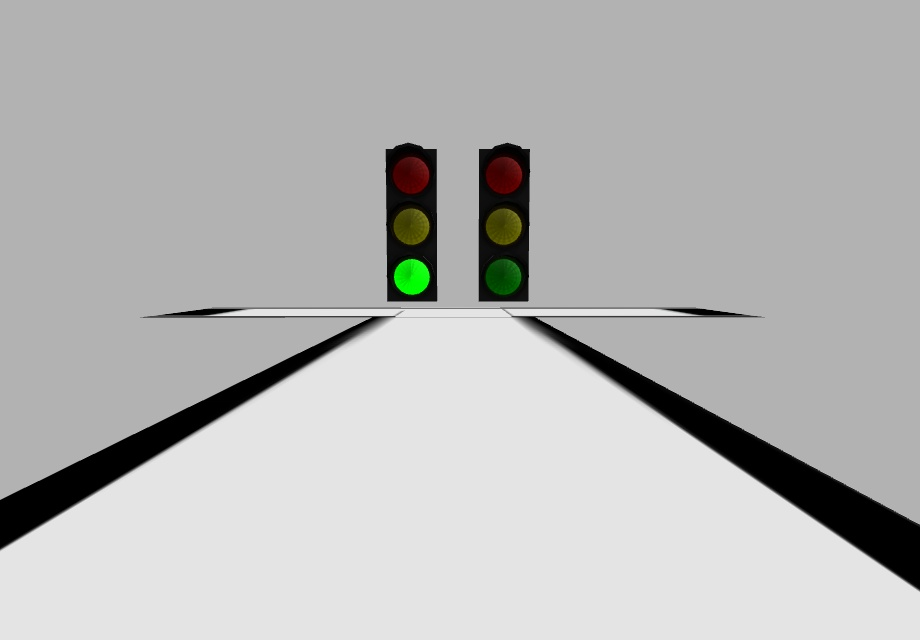green_off: (483, 257, 520, 298)
green_on: (392, 256, 431, 297)
